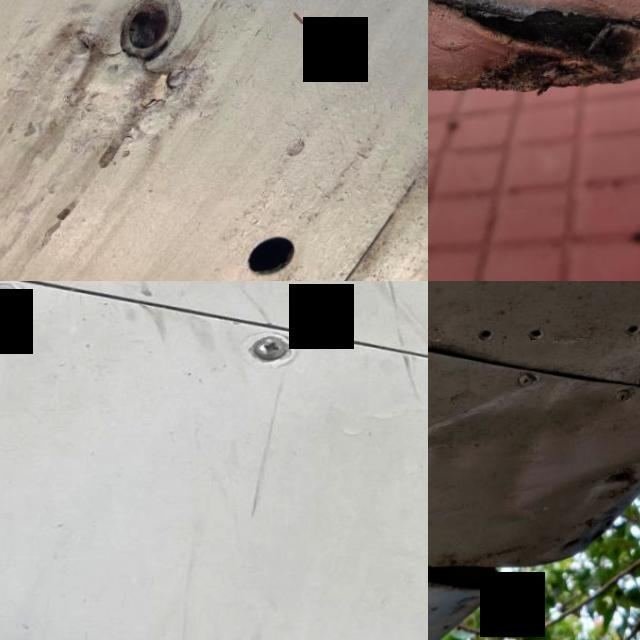Crack: (449, 0, 640, 103), (134, 56, 200, 122)
Dent: (428, 293, 640, 540)
Missing_Fastener: (0, 281, 31, 316)
